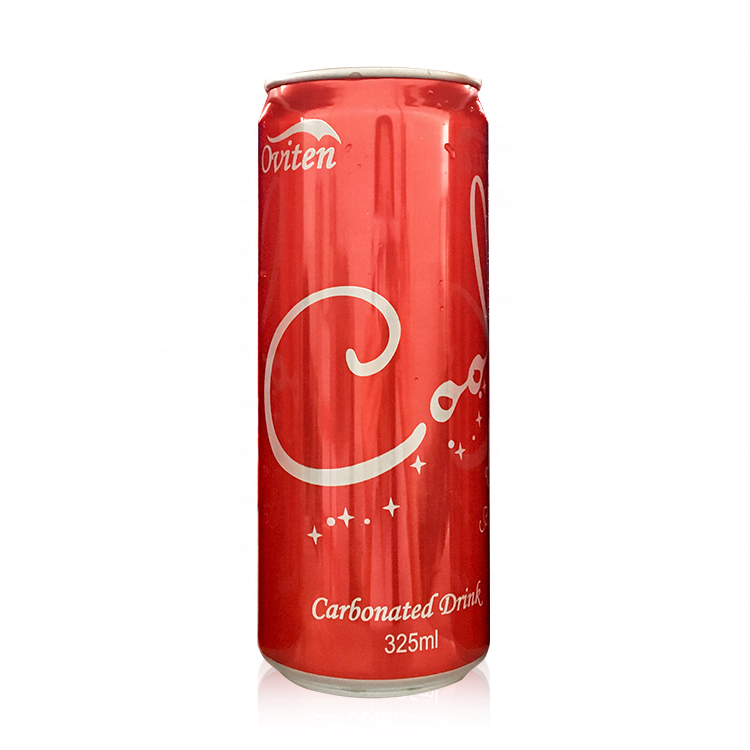metal: (256, 67, 493, 701)
